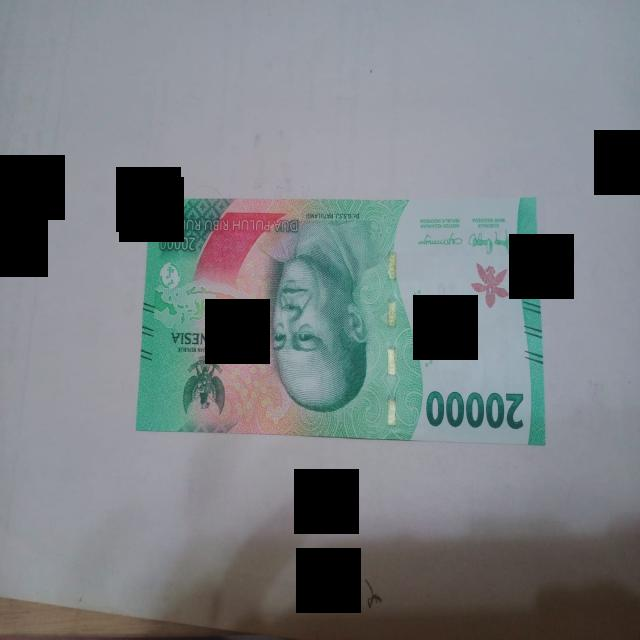dua puluh ribu rupiah: (136, 198, 545, 444)
